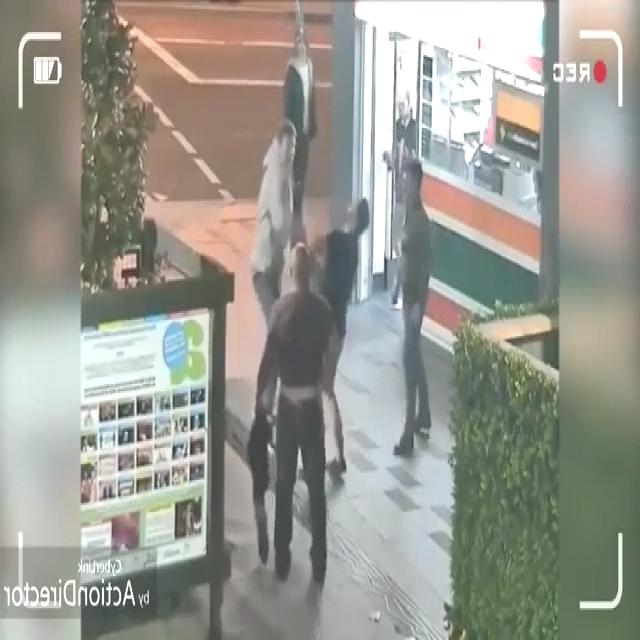fight: (257, 117, 371, 286)
